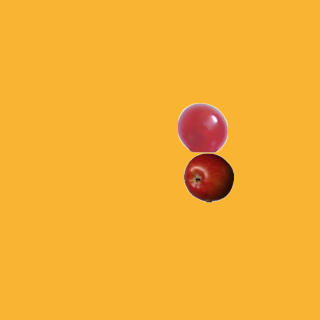Apple Braeburn: (183, 152, 233, 202)
Redcurrant: (177, 102, 227, 152)
